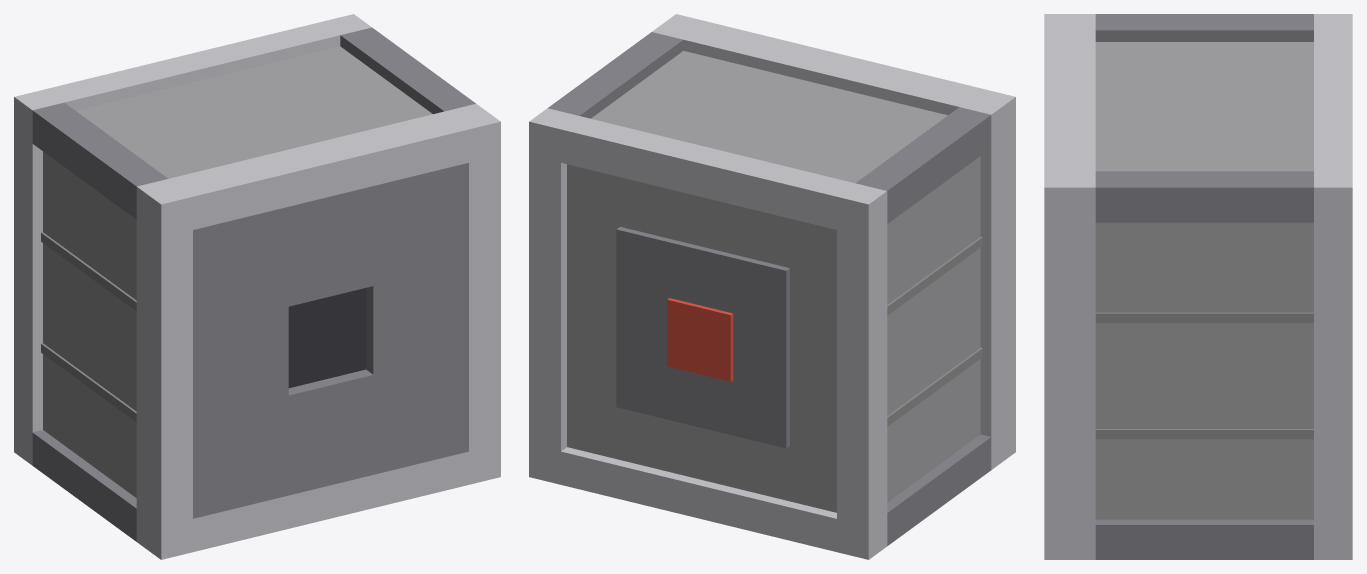
File: piston_on.gltf
3 renders of one model, left to right at view 1: azimuth 30°, elevation 25°; view 2: azimuth 150°, elevation 25°; view 3: azimuth 270°, elevation 25°, orthographic. The views are drawn at different scales.
Parts seen in each view (by area): view 1: piston_on; view 2: piston_on; view 3: piston_on.
Boxes of the visible parts, box(x1,y1,x2,y2) form: piston_on: box(14, 14, 500, 559); piston_on: box(529, 14, 1015, 559); piston_on: box(1044, 14, 1352, 559).
Size of the model in its own units: 1 by 1 by 0.75.
